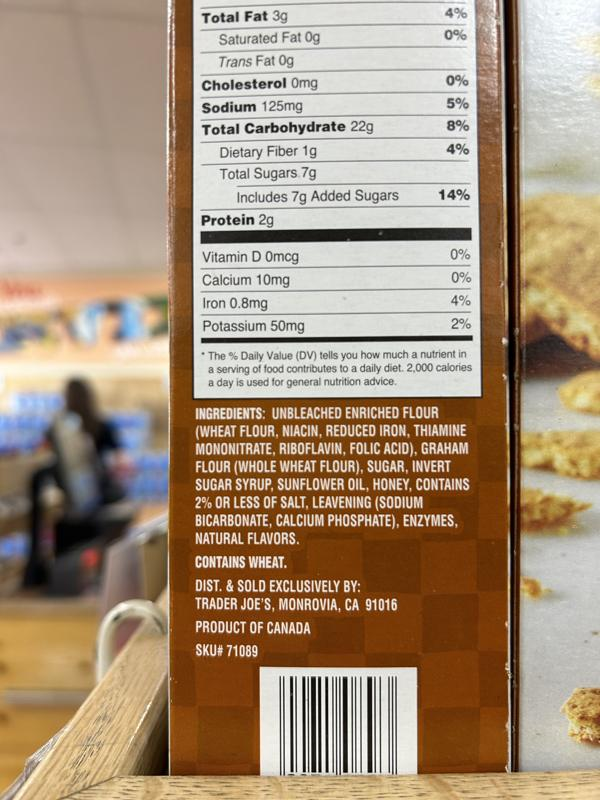ingredients: (192, 403, 473, 547)
